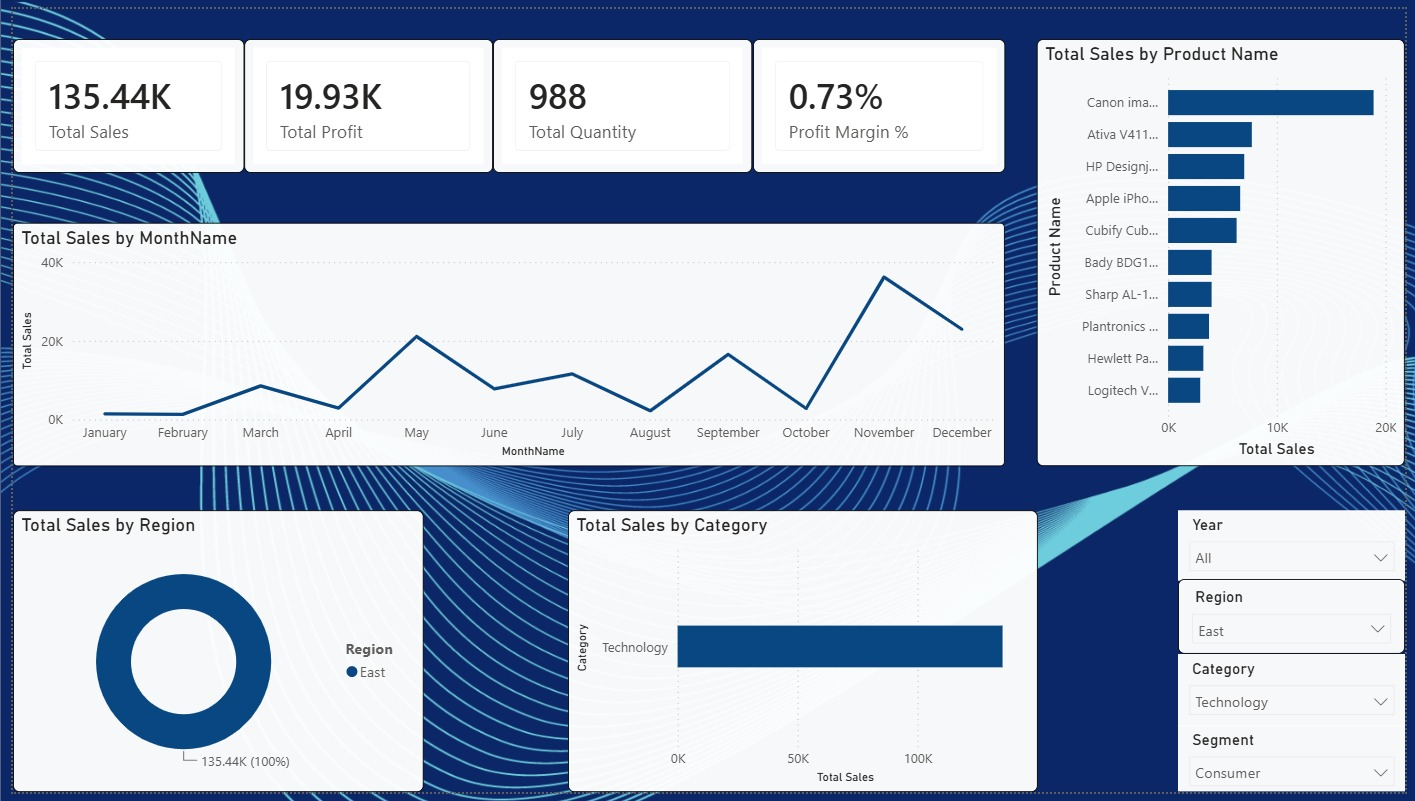

What the dashboard file says about the page in this screenshot:
{"tool":"powerbi","page":{"name":"Executive Overview","canvas":[1280,720],"ordinal":0},"visuals":[{"type":"cardVisual","fields":{"Data":["sales_project fact_sales.Total Sales"]},"box":[0,28.1,212.8,123.5],"z":0},{"type":"cardVisual","fields":{"Data":["sales_project fact_sales.Total Profit"]},"box":[212.8,28.1,228.7,123.5],"z":1000},{"type":"cardVisual","fields":{"Data":["sales_project fact_sales.Total Quantity"]},"box":[441.4,28.1,238.5,123.5],"z":2000},{"type":"cardVisual","fields":{"Data":["sales_project fact_sales.Profit Margin %"]},"box":[679.9,28.1,232.3,123.5],"z":3000},{"type":"lineChart","fields":{"Category":["sales_project dim_date.MonthName"],"Y":["sales_project fact_sales.Total Sales"]},"box":[0,196.9,912.2,223.8],"z":4000},{"type":"clusteredBarChart","fields":{"Category":["sales_project dim_product.Category"],"Y":["sales_project fact_sales.Total Sales"]},"box":[509.9,461,431.7,259.2],"z":5000},{"type":"donutChart","fields":{"Category":["sales_project dim_geography.Region"],"Y":["sales_project fact_sales.Total Sales"]},"box":[0,461,377.9,259.2],"z":6000},{"type":"barChart","fields":{"Category":["sales_project dim_product.Product Name"],"Y":["sales_project fact_sales.Total Sales"]},"box":[941.6,28.1,338.7,392.5],"z":7000},{"type":"slicer","fields":{"Values":["sales_project dim_date.Year"]},"box":[1071.2,461,209.1,64.8],"z":8000},{"type":"slicer","fields":{"Values":["sales_project dim_geography.Region"]},"box":[1071.2,524.6,209.1,68.5],"z":9000},{"type":"slicer","fields":{"Values":["sales_project dim_product.Category"]},"box":[1071.2,593.1,209.1,66],"z":10000},{"type":"slicer","fields":{"Values":["sales_project dim_customer.Segment"]},"box":[1071.2,659.1,209.1,61.1],"z":11000}]}

Visuals, with their boxes in screenshot pixels (x1, y1, x2, y2), scaled from the page's 1280x720 canvas onto the 1415x801 screenshot:
cardVisual - sales_project fact_sales.Total Sales: 0/31/235/169
cardVisual - sales_project fact_sales.Total Profit: 235/31/488/169
cardVisual - sales_project fact_sales.Total Quantity: 488/31/752/169
cardVisual - sales_project fact_sales.Profit Margin %: 752/31/1008/169
lineChart - sales_project dim_date.MonthName x sales_project fact_sales.Total Sales: 0/219/1008/468
clusteredBarChart - sales_project dim_product.Category x sales_project fact_sales.Total Sales: 564/513/1041/800
donutChart - sales_project dim_geography.Region x sales_project fact_sales.Total Sales: 0/513/418/800
barChart - sales_project dim_product.Product Name x sales_project fact_sales.Total Sales: 1041/31/1414/468
slicer - sales_project dim_date.Year: 1184/513/1414/585
slicer - sales_project dim_geography.Region: 1184/584/1414/660
slicer - sales_project dim_product.Category: 1184/660/1414/733
slicer - sales_project dim_customer.Segment: 1184/733/1414/800
